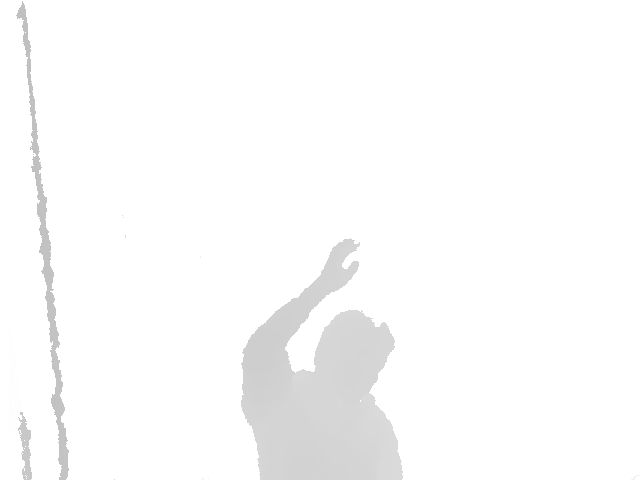hand: (324, 238, 360, 294)
head: (314, 310, 396, 403)
person: (240, 238, 404, 480)
